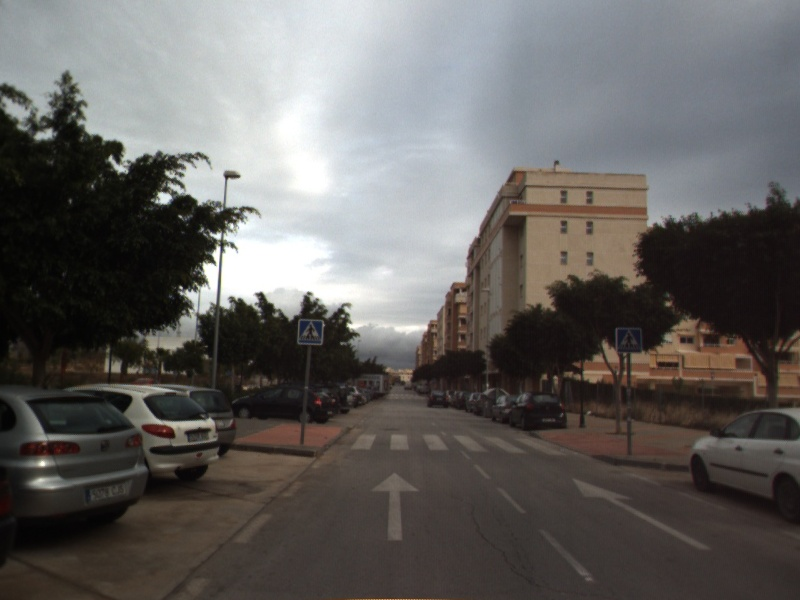STRAIGHT: (571, 477, 714, 552), (369, 470, 421, 542)
